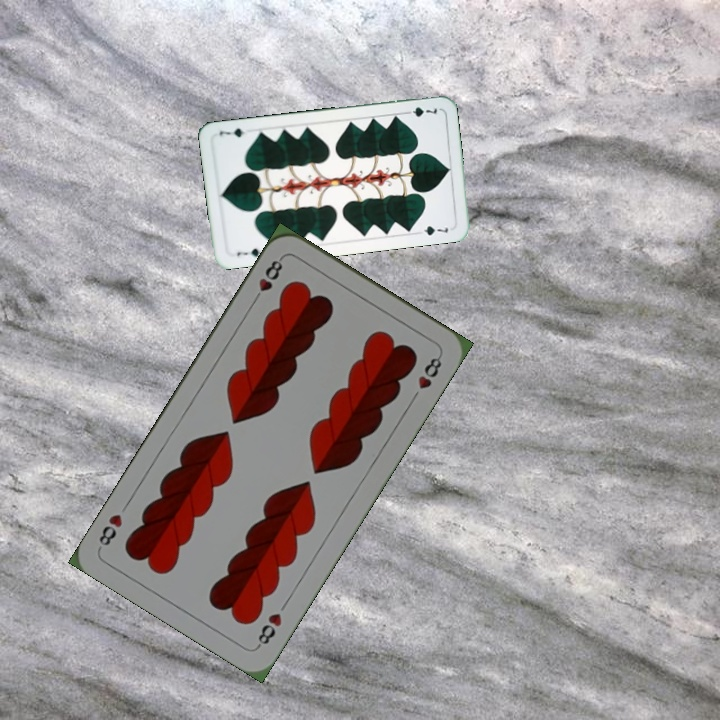G7: (400, 103, 440, 119), (233, 244, 263, 259)
H8: (249, 253, 286, 306), (252, 608, 285, 651)
